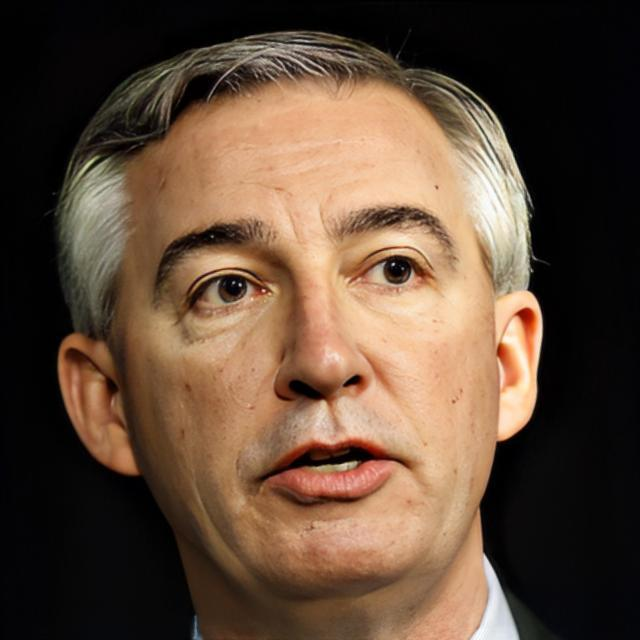surprise: (120, 72, 500, 592)
